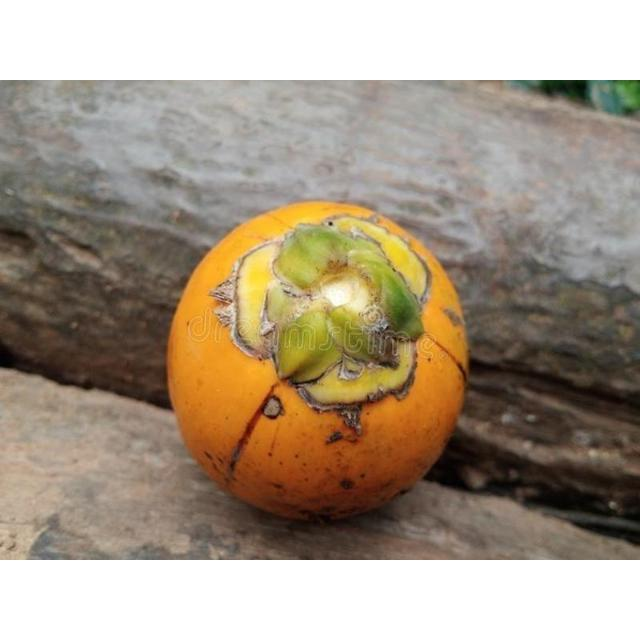good: (166, 202, 470, 523)
